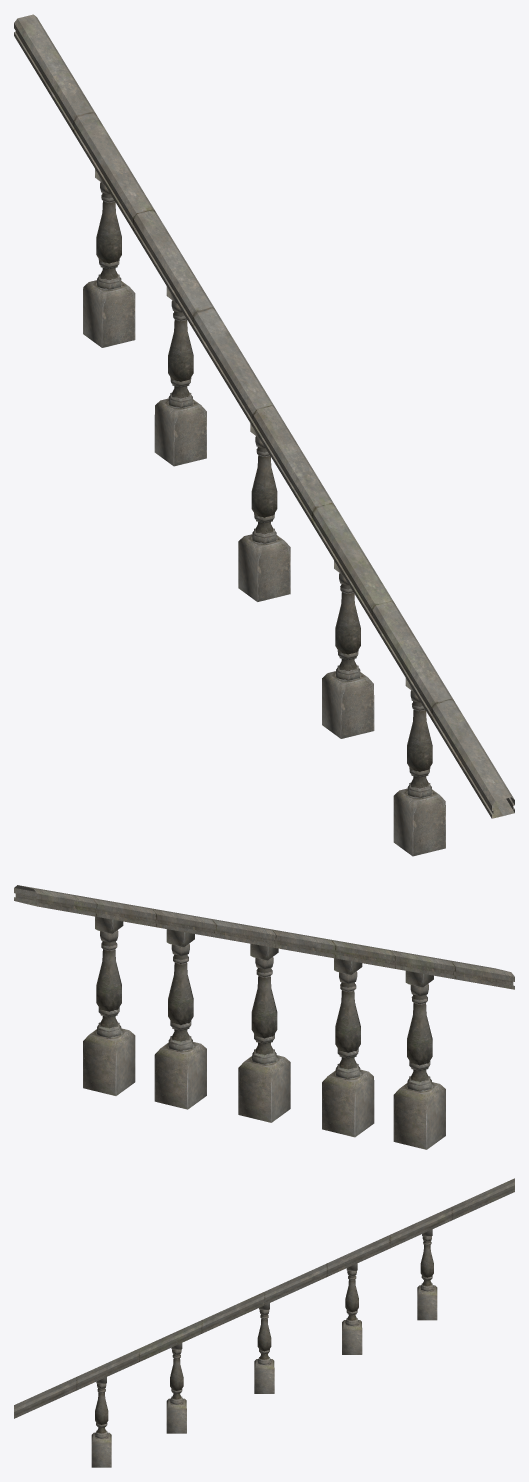
Rendered from Railing03_1.fbx.
3 views of the same model, one above another, from view 1: azimuth 30°, elevation 25°; view 2: azimuth 150°, elevation 25°; view 3: azimuth 270°, elevation 25° (orthographic). The views are drawn at different scales.
Visible parts, largest first — view 1: Railing03_1; view 2: Railing03_1; view 3: Railing03_1.
Boxes of the visible parts, box(x1,y1,x2,y2) form: Railing03_1: box(14, 14, 514, 856); Railing03_1: box(14, 885, 514, 1149); Railing03_1: box(14, 1178, 514, 1467).
Bounding box in the file's own units: 20.04 × 312 × 500.
